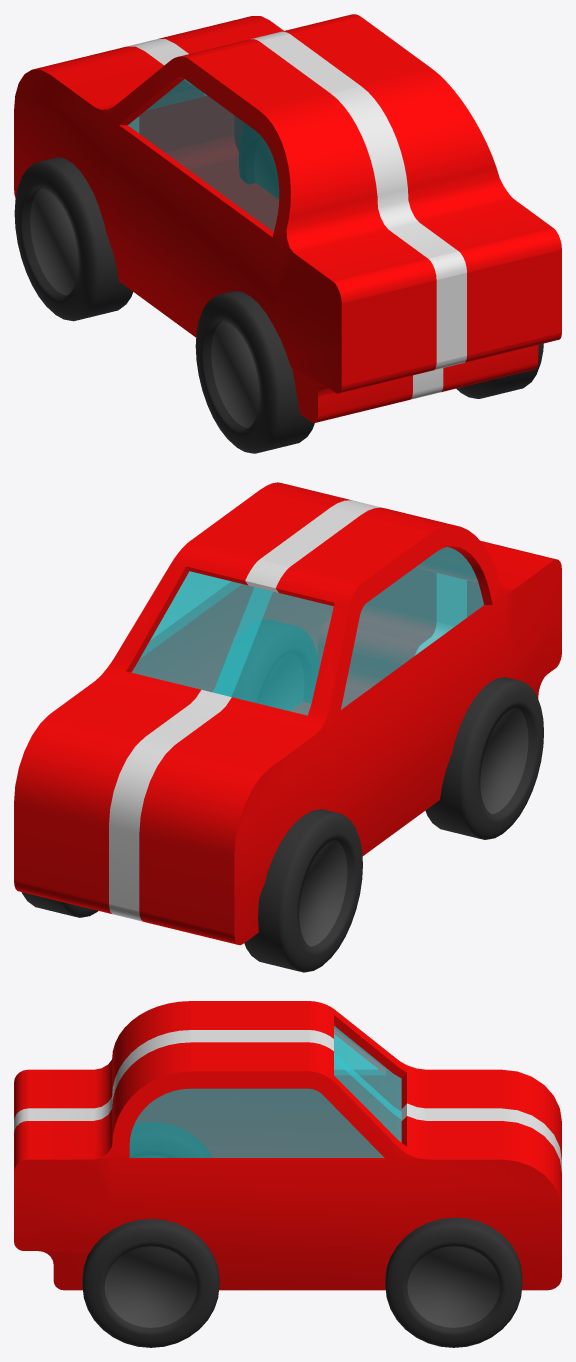
File: Car.fbx
3 renders of one model, top to bottom at view 1: azimuth 30°, elevation 25°; view 2: azimuth 150°, elevation 25°; view 3: azimuth 270°, elevation 25°, orthographic. The views are drawn at different scales.
Visible parts, largest first — view 1: Car, Tire FrontLeft, Tire BackLeft, Tire FrontRight, Tire BackRight; view 2: Car, Tire FrontLeft, Tire BackLeft, Tire BackRight, Tire FrontRight; view 3: Car, Tire FrontRight, Tire BackRight, Tire BackLeft.
Part boxes in pixels (x1,y1,x2,y2): Car: [14, 14, 561, 423]; Tire FrontLeft: [14, 157, 132, 321]; Tire BackLeft: [195, 291, 314, 453]; Tire FrontRight: [239, 124, 278, 199]; Tire BackRight: [456, 343, 543, 398]; Car: [14, 482, 561, 945]; Tire FrontLeft: [244, 809, 362, 972]; Tire BackLeft: [425, 677, 543, 839]; Tire BackRight: [217, 619, 319, 710]; Tire FrontRight: [21, 892, 97, 917]; Car: [14, 1001, 561, 1290]; Tire FrontRight: [385, 1217, 522, 1347]; Tire BackRight: [82, 1219, 219, 1347]; Tire BackLeft: [130, 1122, 212, 1157].
Size of the model in its own units: 185 by 198 by 380.
